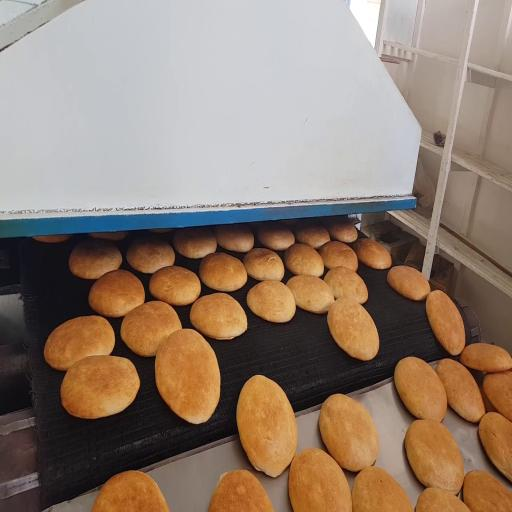bread: (155, 329, 220, 424), (237, 375, 297, 477), (61, 356, 139, 419), (319, 394, 379, 471), (405, 420, 464, 493), (288, 448, 352, 511), (44, 316, 114, 371), (394, 357, 447, 421), (121, 301, 181, 356), (328, 297, 379, 360), (436, 359, 485, 422), (92, 471, 169, 511), (352, 467, 413, 511), (209, 470, 273, 511), (190, 293, 247, 339), (89, 270, 144, 317), (426, 290, 465, 355), (479, 412, 511, 481), (69, 240, 122, 279), (150, 266, 201, 305), (247, 281, 295, 322), (463, 470, 511, 511), (199, 253, 247, 291), (287, 275, 334, 313), (127, 238, 175, 274), (324, 267, 368, 303), (387, 266, 430, 301), (461, 343, 511, 373), (482, 371, 512, 421), (243, 248, 284, 280), (173, 228, 216, 258), (284, 244, 323, 277), (416, 488, 469, 511), (319, 241, 358, 270), (354, 239, 391, 269), (215, 225, 254, 252), (258, 223, 294, 250), (296, 226, 330, 248), (326, 221, 357, 242), (479, 382, 496, 412), (90, 231, 127, 241), (33, 235, 71, 243), (149, 228, 173, 234)
